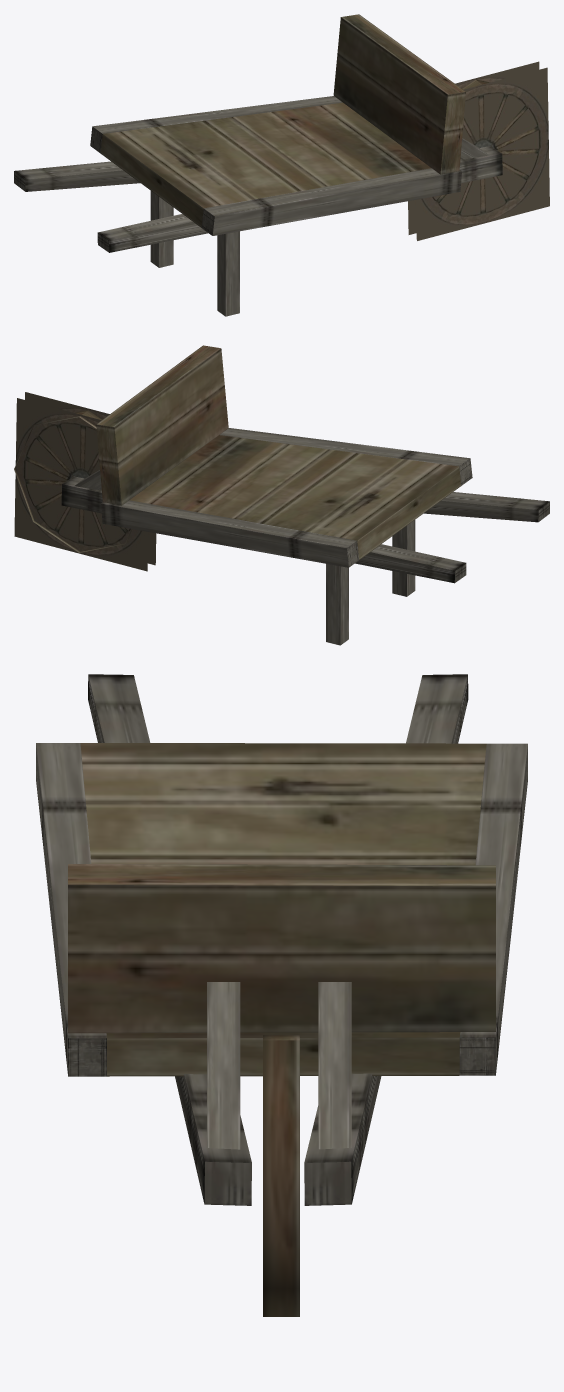
File: pir_m_prp_mkt_wheelbarrow.fbx
3 views of the same model, one above another, from view 1: azimuth 30°, elevation 25°; view 2: azimuth 150°, elevation 25°; view 3: azimuth 270°, elevation 25° (orthographic). The views are drawn at different scales.
Parts seen in each view (by area): view 1: CartBase1, spokes1, Cartvert, handle3, handle2, leg01, leg02, spokes2; view 2: CartBase1, Cartvert, spokes2, handle2, handle3, leg02, leg01, spokes1, wheel1; view 3: CartBase1, Cartvert, wheel1, handle2, handle3, brace02, brace01.
Part boxes in pixels (x1,y1,x2,y2): CartBase1: [90, 96, 461, 235]; spokes1: [416, 67, 549, 240]; Cartvert: [333, 14, 465, 174]; handle3: [97, 146, 502, 252]; handle2: [14, 161, 140, 191]; leg01: [217, 231, 239, 316]; leg02: [150, 191, 173, 267]; spokes2: [408, 61, 539, 234]; CartBase1: [101, 428, 472, 567]; Cartvert: [96, 345, 228, 505]; spokes2: [14, 398, 148, 571]; handle2: [61, 476, 466, 583]; handle3: [424, 492, 549, 522]; leg02: [326, 564, 348, 645]; leg01: [392, 520, 415, 596]; spokes1: [25, 392, 156, 565]; wheel1: [14, 410, 132, 552]; CartBase1: [36, 743, 527, 1076]; Cartvert: [68, 864, 495, 1033]; wheel1: [263, 1035, 299, 1316]; handle2: [304, 674, 468, 1205]; handle3: [88, 674, 251, 1205]; brace02: [207, 982, 240, 1149]; brace01: [318, 982, 351, 1149].
Size of the model in its own units: 682 by 251 by 300.
Materials: 2 (2 with a texture image).
